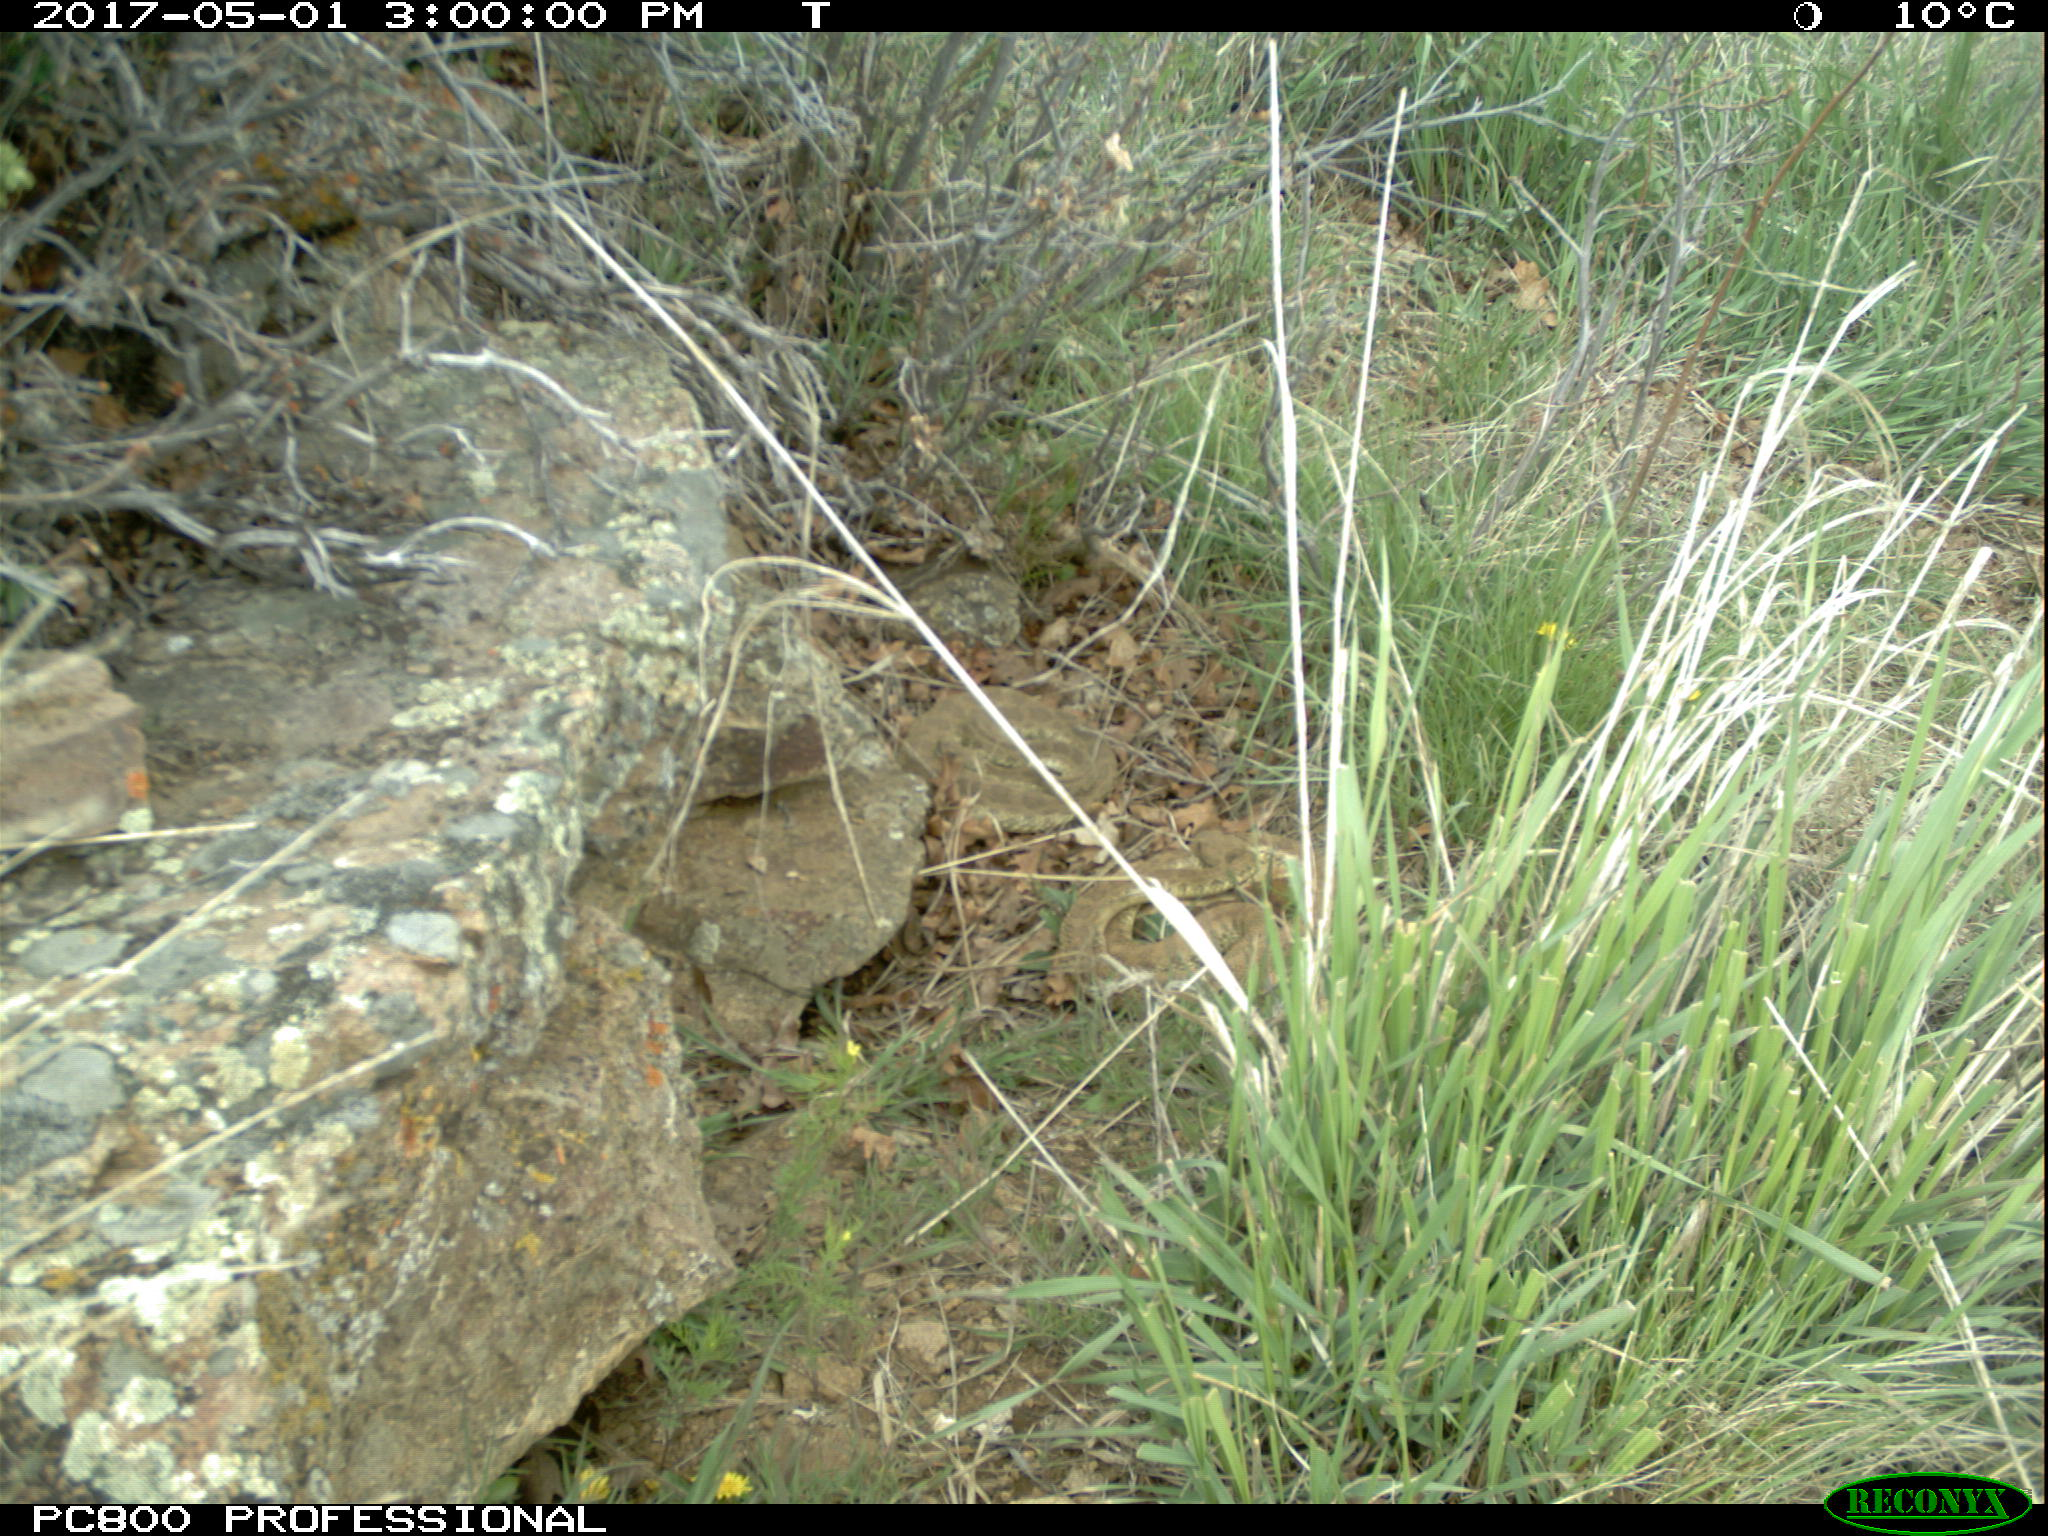snake: (1059, 829, 1301, 1007), (900, 679, 1122, 831)
